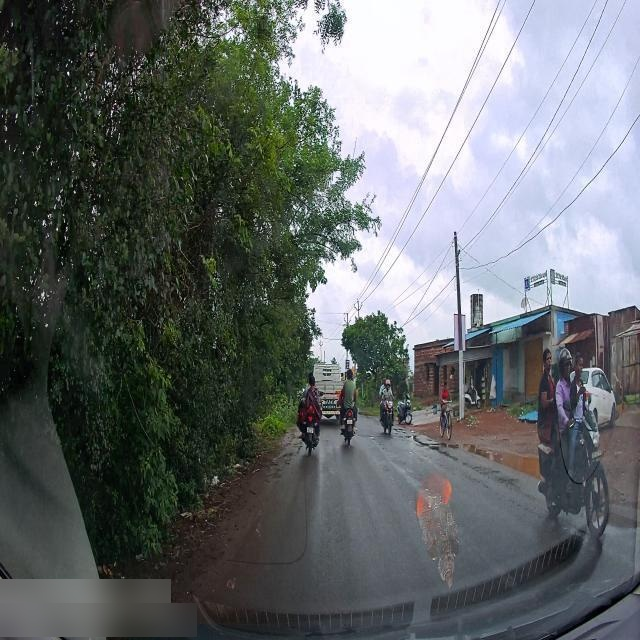pothole: (462, 446, 538, 469), (411, 428, 439, 450), (357, 428, 375, 442)
